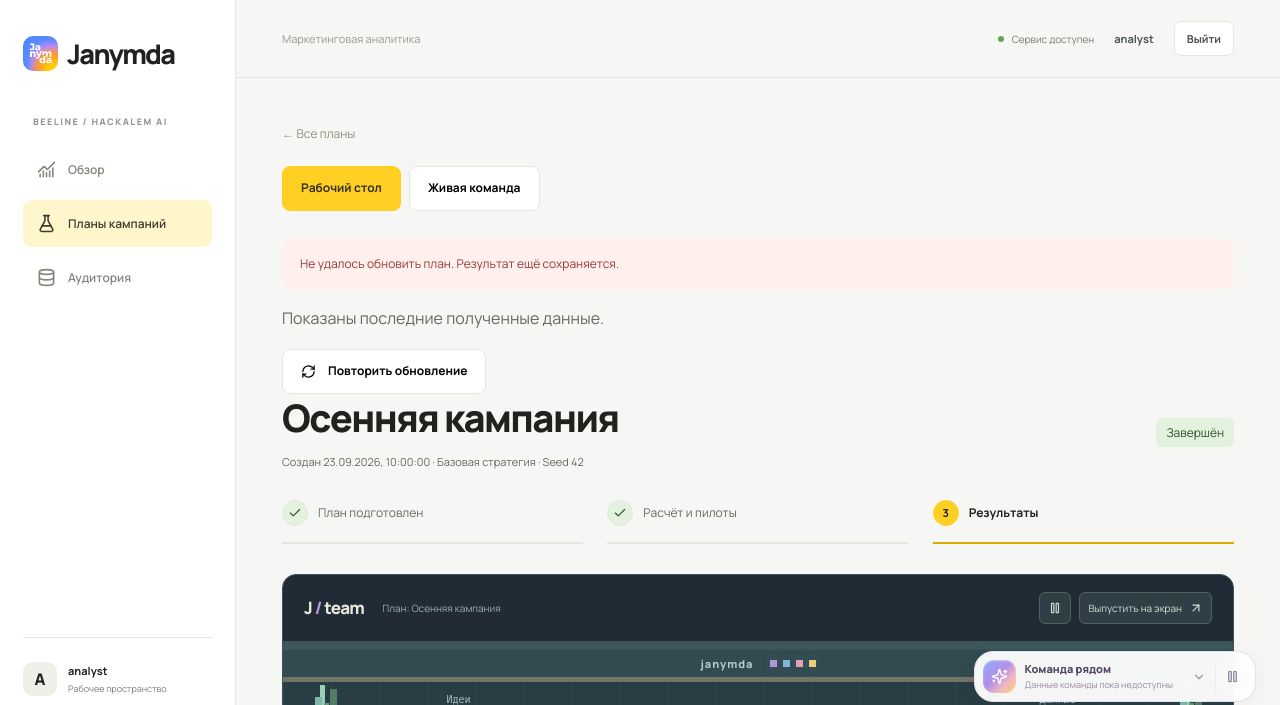
пользовательский сценарий › обрабатывает пустой результат и повторяет недоступный результат вручную
Check: the text "Не удалось обновить план. Результат ещё сохраняется." is shown, box [282,239,1234,289]
Click the button "Повторить обновление" at (384, 371), box [282,349,486,394]
(page scrolled)
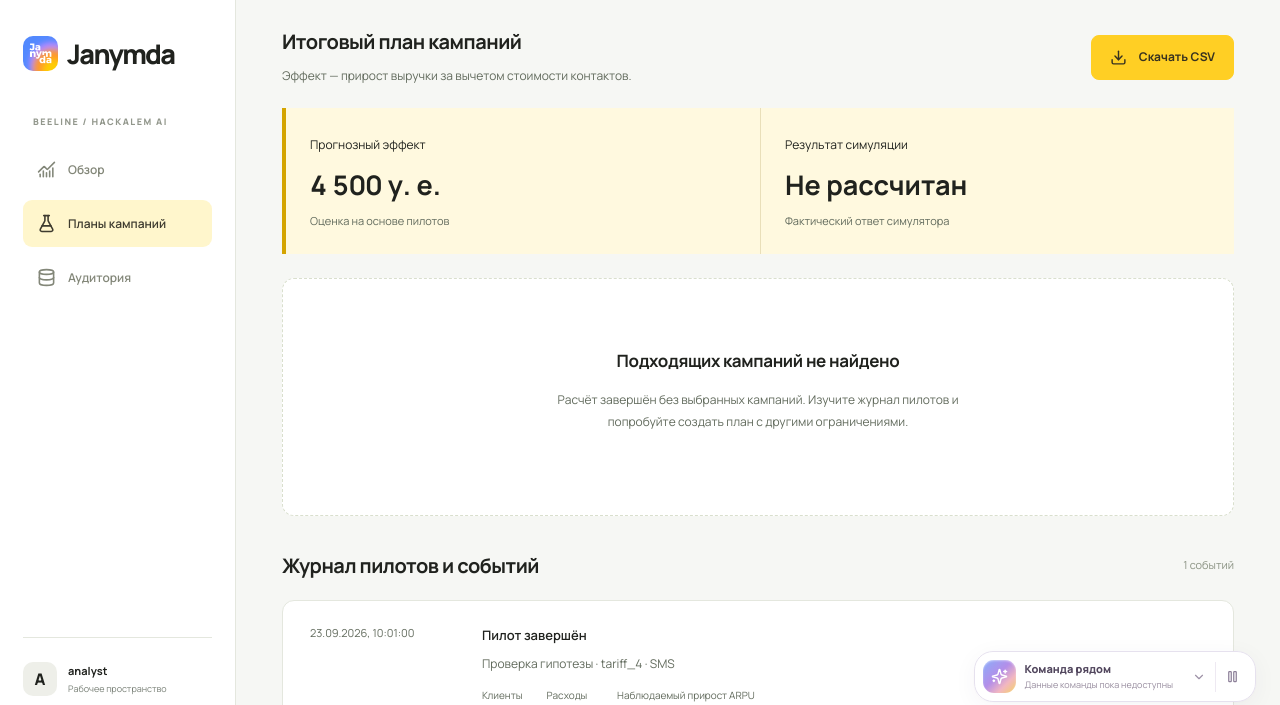
Check: the heading "Подходящих кампаний не найдено" is shown, box [617,349,899,372]
